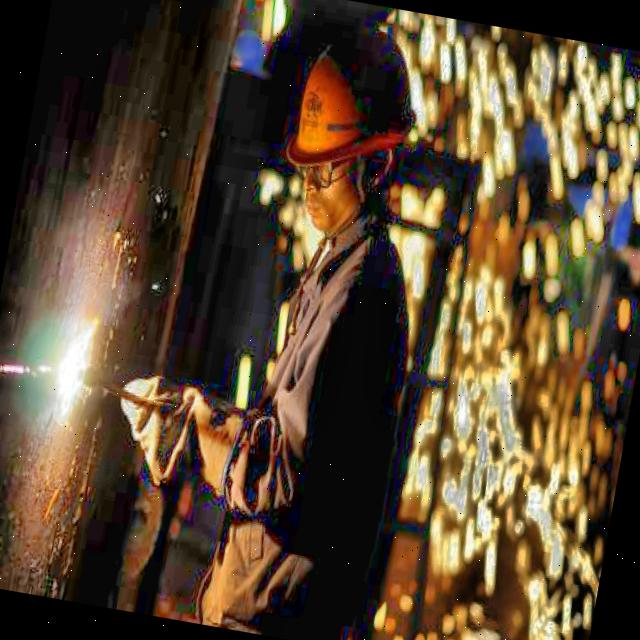helmet: (275, 23, 416, 252)
